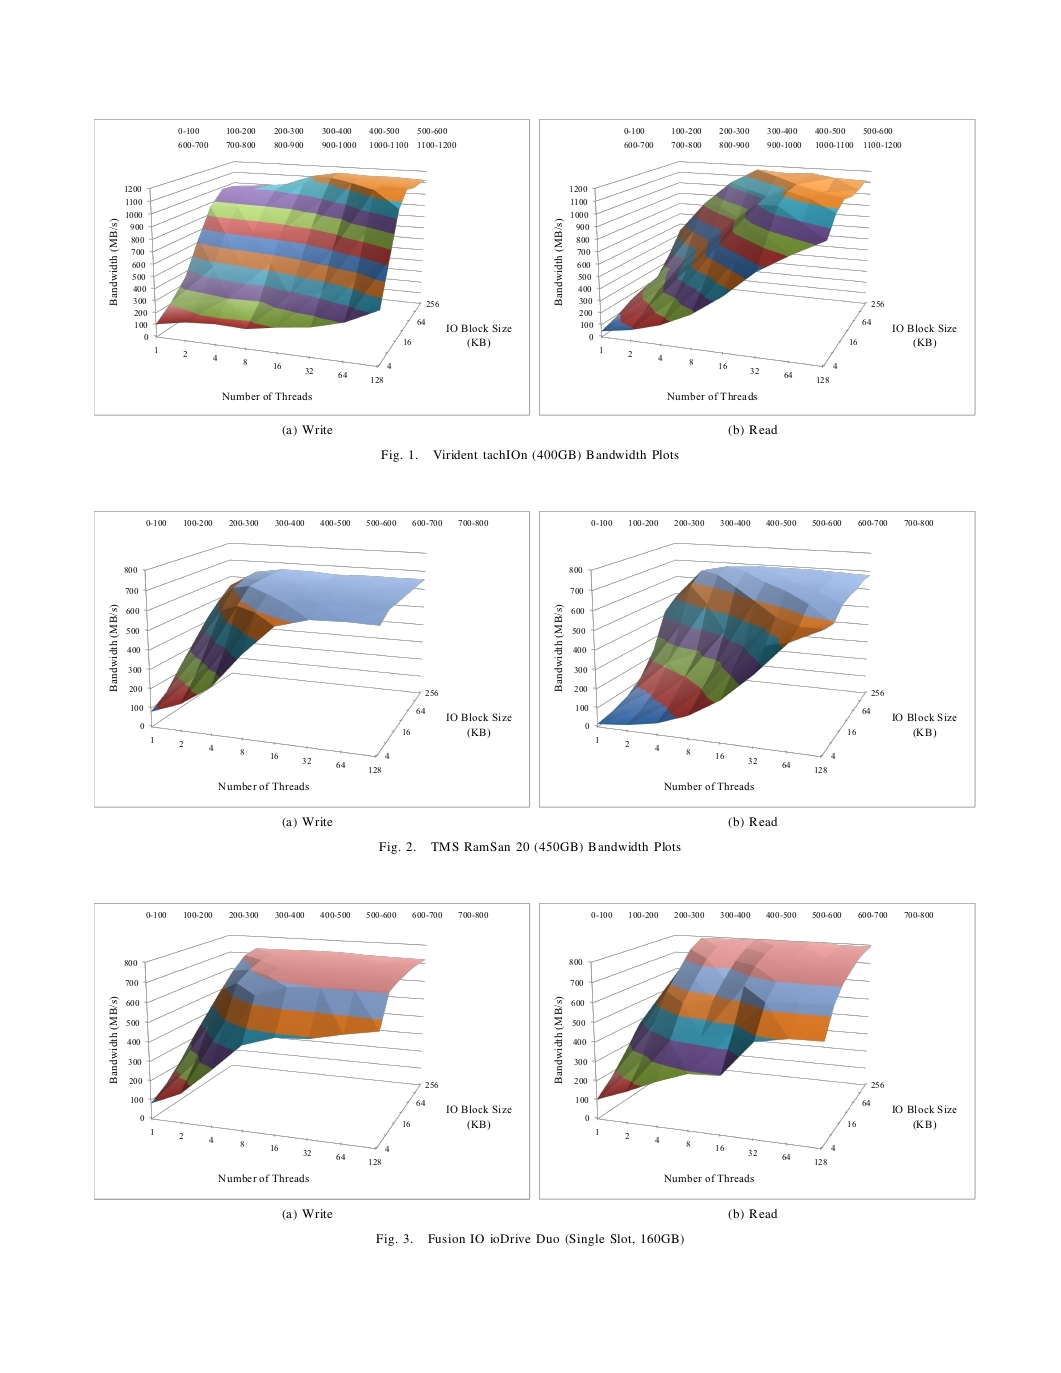figure: (94, 902, 530, 1200), (539, 902, 975, 1200), (94, 118, 529, 416), (539, 118, 975, 416), (94, 510, 529, 808), (539, 510, 975, 808)
